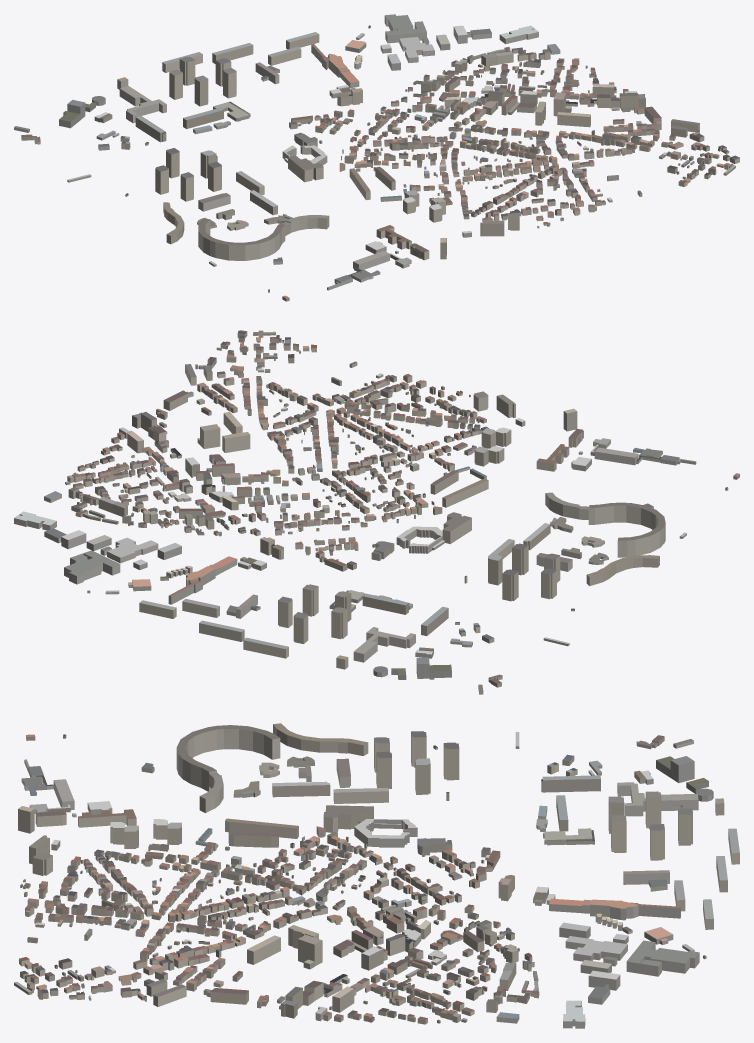
3 renders of one model, top to bottom at view 1: azimuth 30°, elevation 25°; view 2: azimuth 150°, elevation 25°; view 3: azimuth 270°, elevation 25°, orthographic. The views are drawn at different scales.
Visible parts, largest first — view 1: tuile; view 2: tuile; view 3: tuile.
Boxes of the visible parts, x1,y1,x2,y2 form: tuile: [14, 14, 739, 301]; tuile: [14, 330, 739, 694]; tuile: [14, 723, 739, 1028].
Size of the model in its own units: 1033 by 87.4 by 1009.
